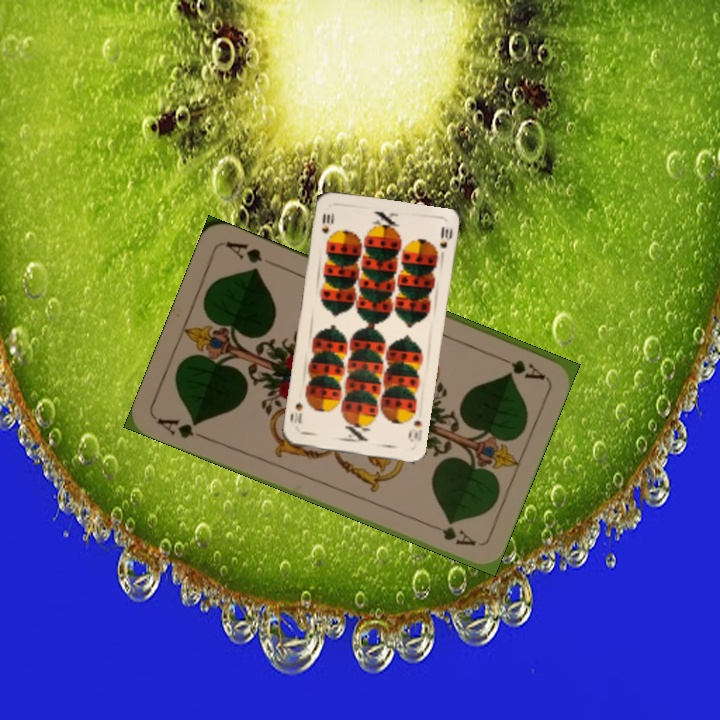GA: (491, 350, 547, 383), (153, 414, 210, 442)
S10: (404, 416, 425, 444), (317, 208, 336, 236)
